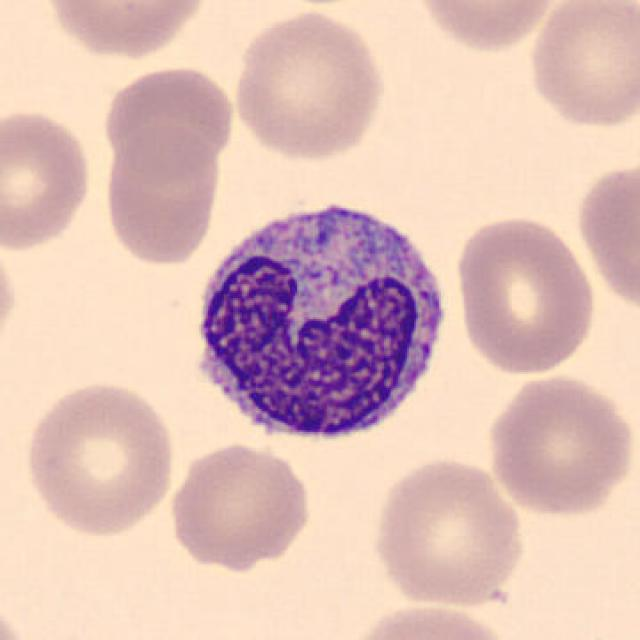Monocyte: (180, 187, 458, 457)
RBC: (19, 376, 180, 540), (228, 7, 390, 164), (368, 453, 530, 610), (452, 212, 599, 377), (482, 371, 636, 518), (164, 439, 316, 573), (100, 122, 224, 270), (98, 60, 238, 176), (523, 0, 638, 132), (0, 104, 96, 256), (572, 157, 638, 316), (37, 0, 210, 60), (411, 0, 565, 55), (340, 599, 518, 640), (0, 232, 21, 361)
